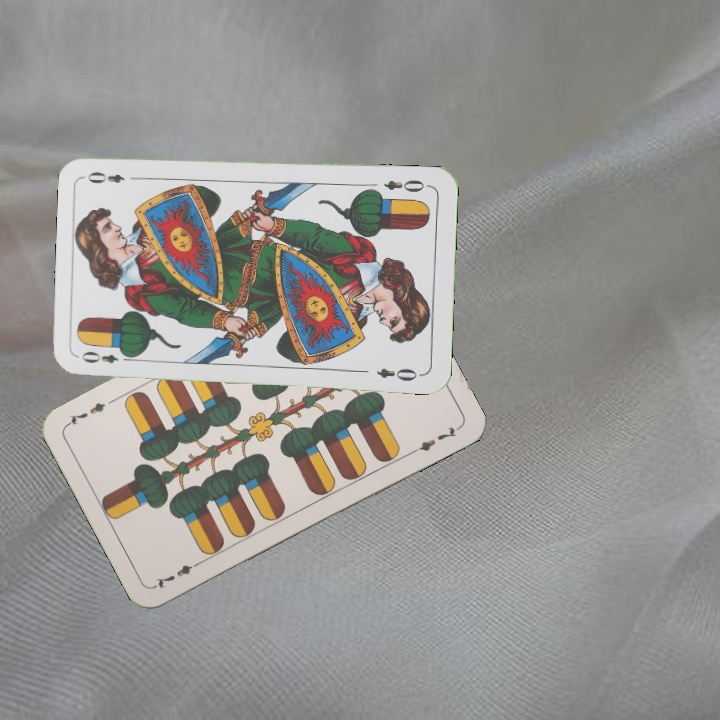E7: (151, 556, 205, 590)
EO: (77, 347, 135, 366), (380, 175, 432, 195)
